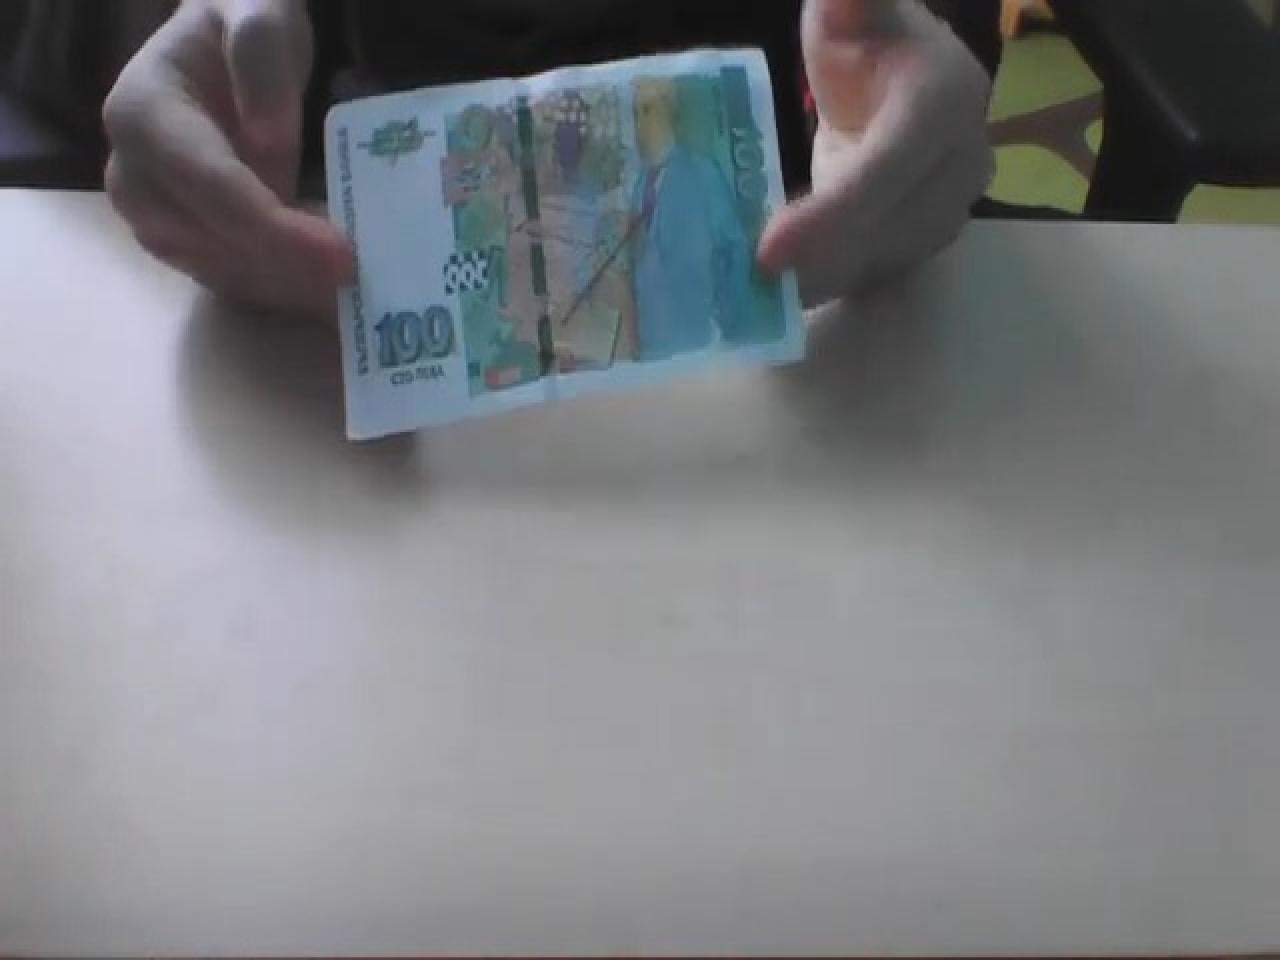100leva: (322, 42, 806, 441), (370, 302, 454, 368)
